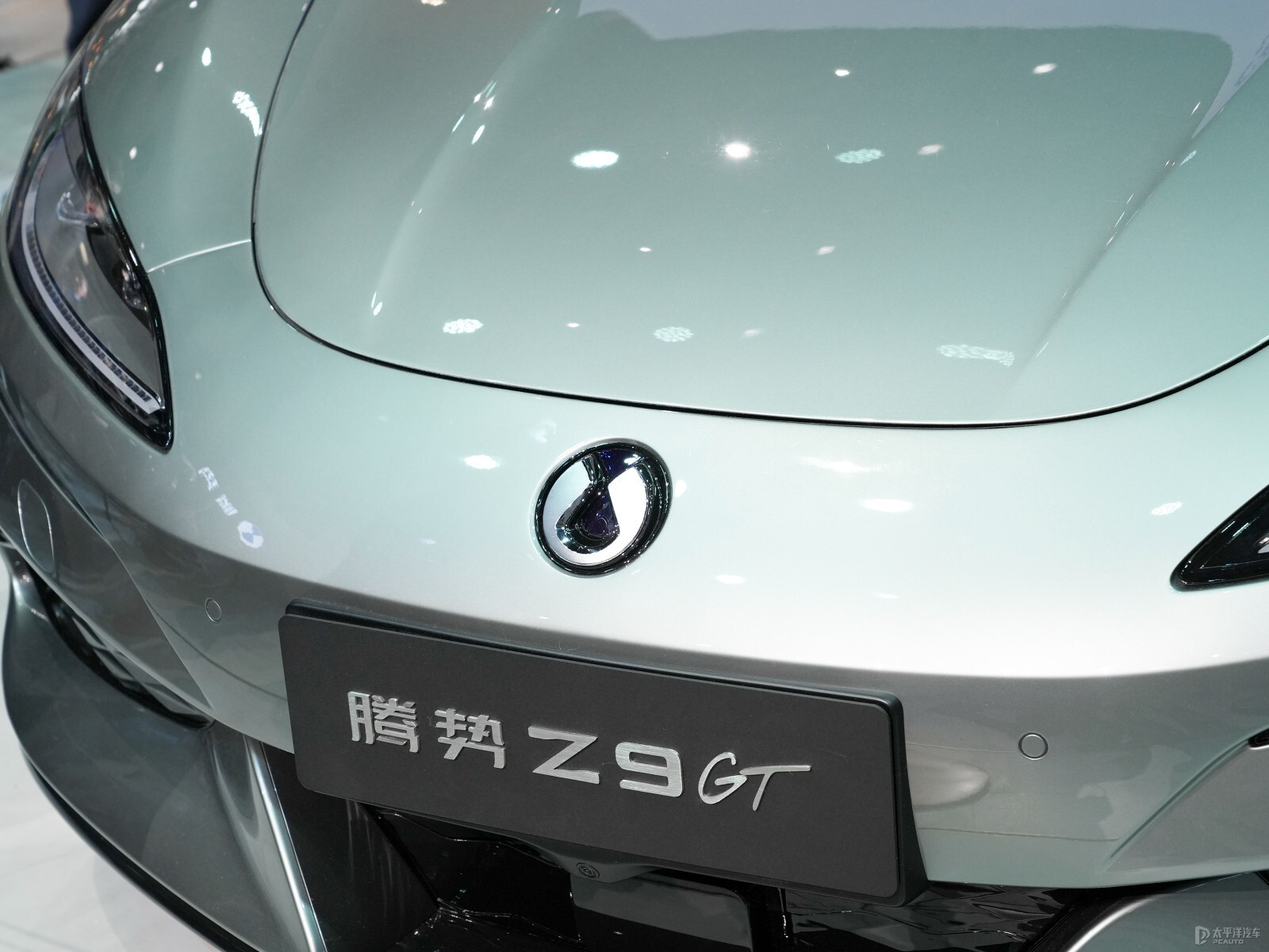DENZA: (543, 462, 646, 565)
